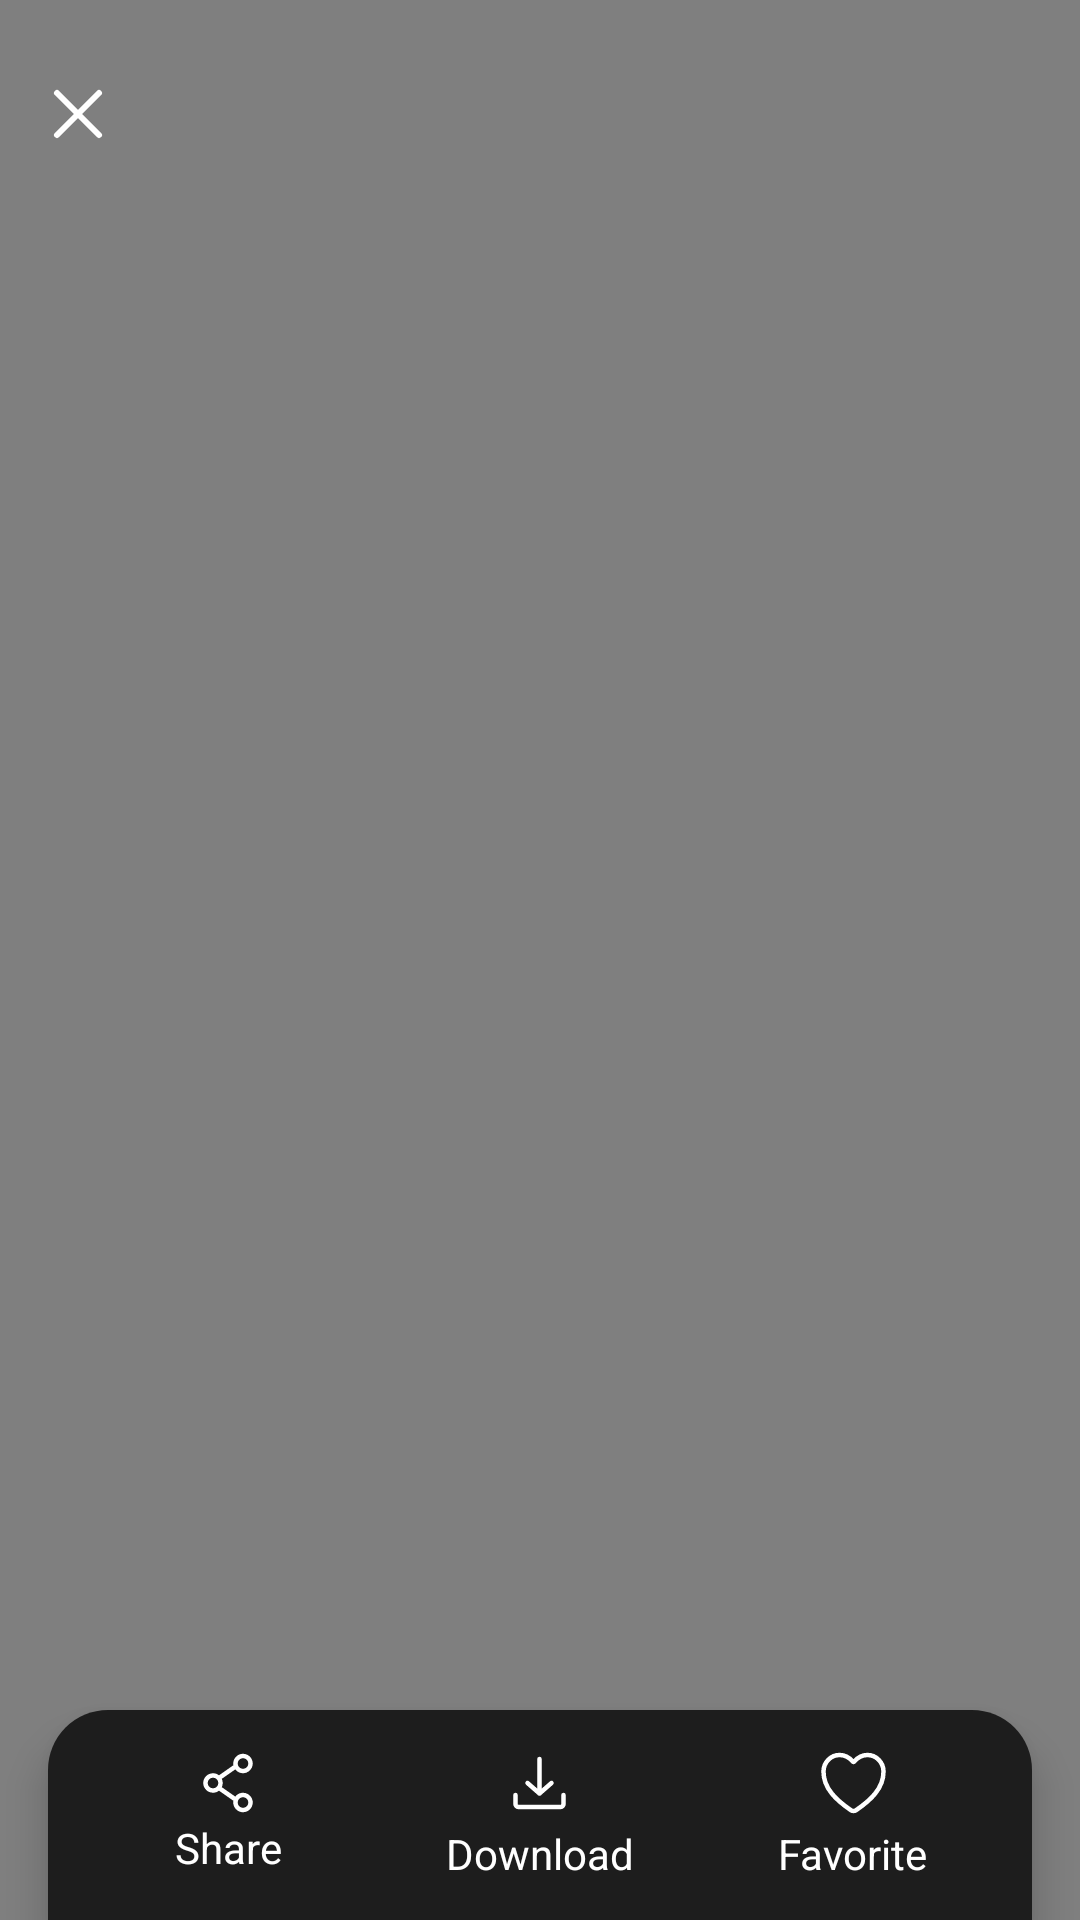

Named icons in this screenshot (1080×1920) and their centers, (x=x, y=y):
close: (x=78, y=114)
